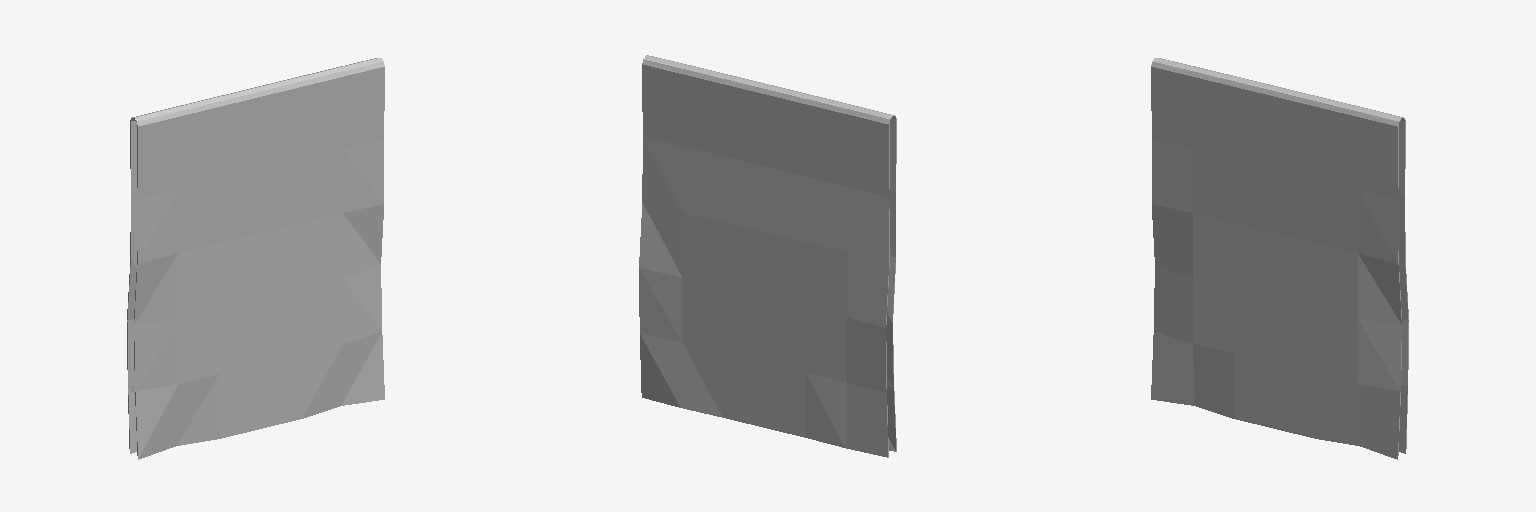
Rendered from towel_rack_towels_1.obj.
3 renders of one model, left to right at view 1: azimuth 30°, elevation 25°; view 2: azimuth 150°, elevation 25°; view 3: azimuth 330°, elevation 25°, orthographic.
Size of the model in its own units: 6.18 by 8.11 by 0.4905.